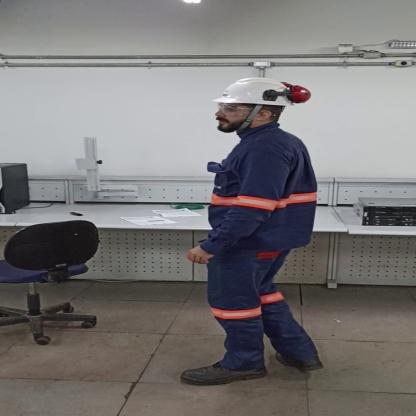Capacete: (211, 76, 309, 107)
